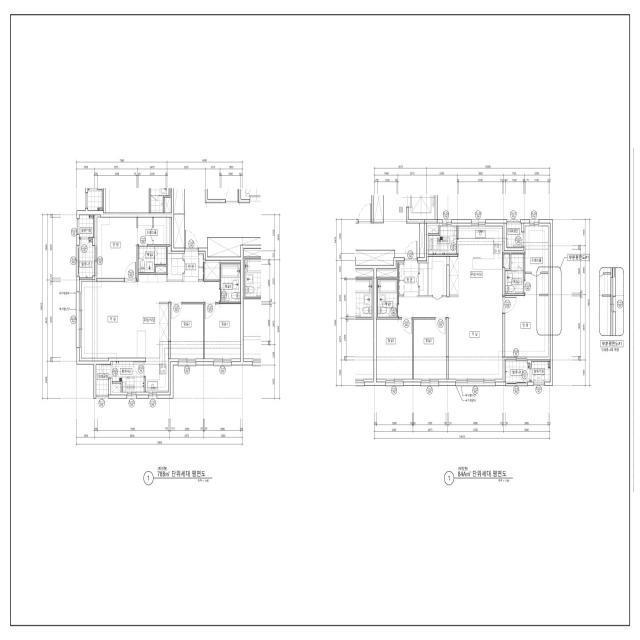space_balconi: (112, 361, 144, 392), (428, 226, 457, 254), (79, 239, 94, 278), (505, 361, 530, 382)
space_bedroom: (505, 296, 548, 357), (97, 217, 137, 278), (376, 319, 412, 379), (205, 304, 241, 359), (414, 319, 446, 379), (171, 304, 203, 359)
space_dressroom: (525, 226, 549, 294), (138, 217, 170, 245)
space_front: (399, 260, 419, 295), (184, 250, 204, 282)
space_kitchen: (449, 226, 503, 295), (145, 302, 168, 392)
space_living_room: (81, 275, 219, 358), (399, 295, 503, 379)
space_other: (428, 257, 447, 295), (96, 365, 110, 395), (506, 223, 523, 247), (168, 254, 183, 280), (174, 214, 184, 248), (205, 262, 219, 280), (420, 263, 427, 295), (420, 223, 424, 257), (376, 271, 397, 277), (504, 254, 510, 269), (428, 226, 439, 234), (112, 383, 121, 392), (156, 266, 166, 273)
space_outdoor_room: (531, 362, 550, 382), (79, 215, 94, 237)
space_toilet: (505, 254, 524, 294), (221, 264, 241, 302), (138, 246, 166, 273), (378, 279, 397, 317)
